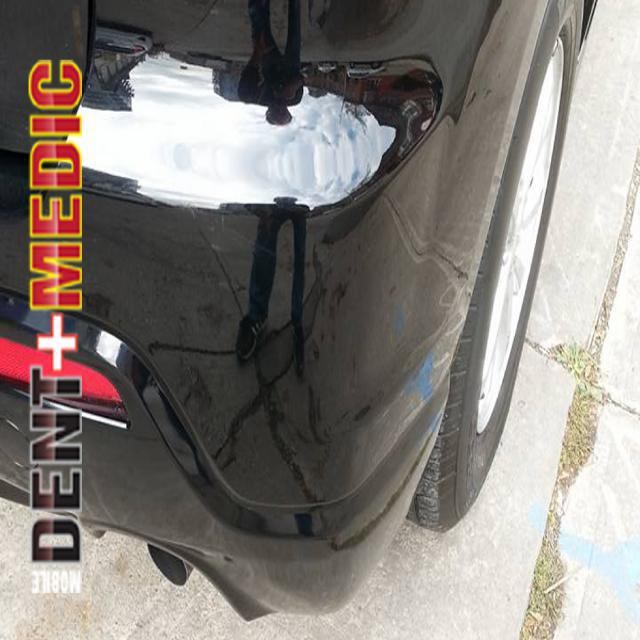rear-bumper-dent: (145, 140, 507, 614)
